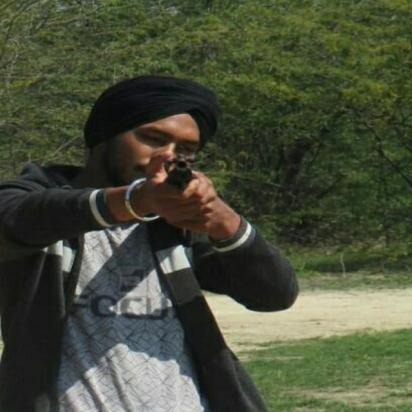Gun: (162, 152, 197, 243)
